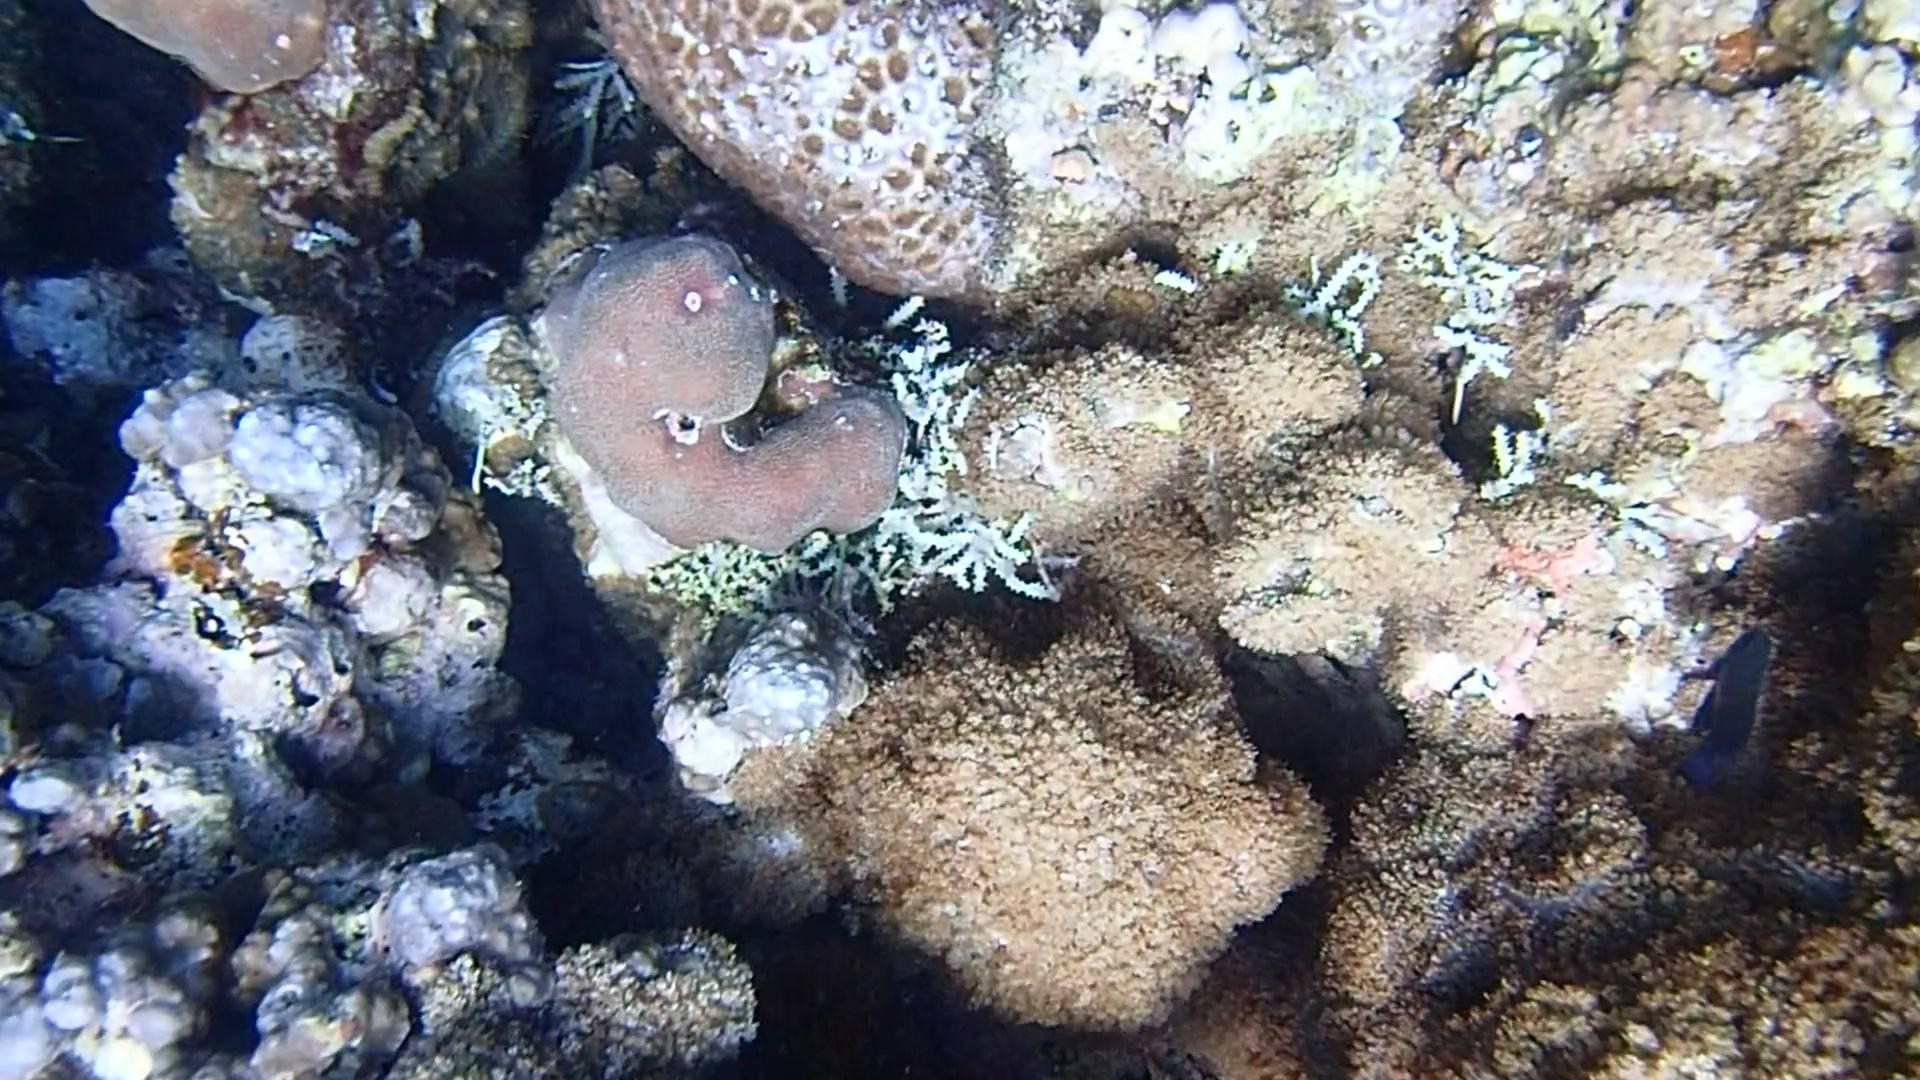Dark Fish: (1675, 624, 1783, 799)
